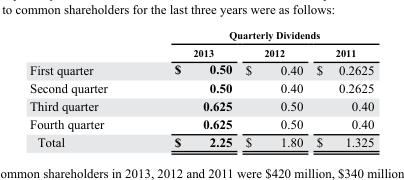table: (28, 28, 373, 148)
table column: (28, 28, 140, 148), (140, 28, 238, 148), (238, 28, 309, 148), (309, 28, 373, 148)
table column header: (28, 28, 373, 60)
table row: (28, 60, 373, 78), (28, 78, 373, 96), (28, 96, 373, 114), (28, 114, 373, 132), (28, 43, 373, 60), (28, 132, 373, 148), (28, 28, 373, 43)
table spanning cell: (140, 28, 373, 43)
